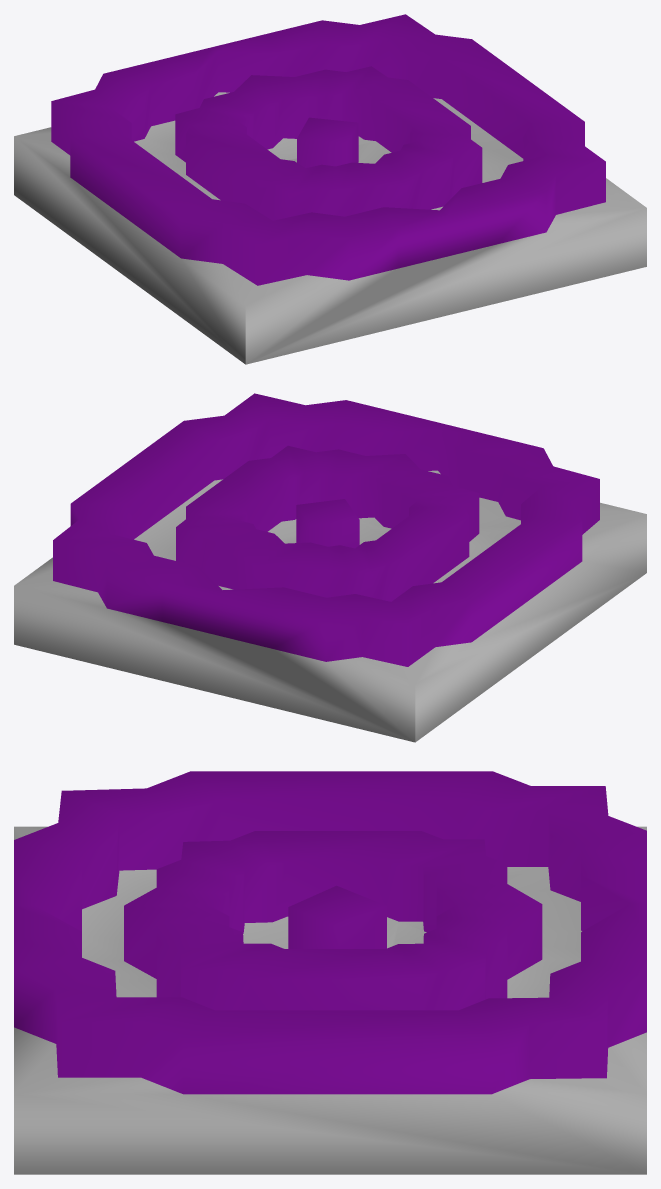
Rendered from The end_2 1.fbx.
3 renders of one model, top to bottom at view 1: azimuth 30°, elevation 25°; view 2: azimuth 150°, elevation 25°; view 3: azimuth 270°, elevation 25°, orthographic. The views are drawn at different scales.
Visible parts, largest first — view 1: 立方体; view 2: 立方体; view 3: 立方体.
Part boxes in pixels (x1,y1,x2,y2): 立方体: (14, 14, 646, 364); 立方体: (14, 393, 646, 742); 立方体: (14, 771, 646, 1174).
Size of the model in its own units: 14 by 3.32 by 14.
1 material, 1 textured.
